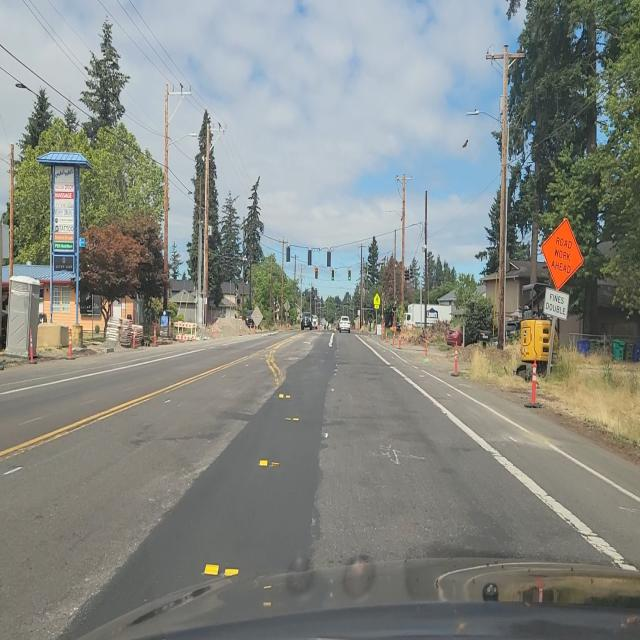car: (338, 316, 351, 333), (301, 312, 312, 331), (245, 314, 257, 329), (310, 315, 319, 329)
crosswalk-sign: (374, 293, 381, 310), (274, 299, 279, 321)
delineator: (530, 358, 538, 406), (29, 328, 35, 363), (453, 344, 459, 376), (68, 327, 73, 360), (211, 319, 219, 338), (397, 327, 402, 348), (424, 333, 428, 359), (132, 325, 136, 349), (392, 325, 396, 345), (238, 323, 243, 336), (381, 321, 385, 337), (406, 331, 410, 346), (154, 324, 156, 346), (249, 325, 252, 334), (287, 323, 290, 330)
